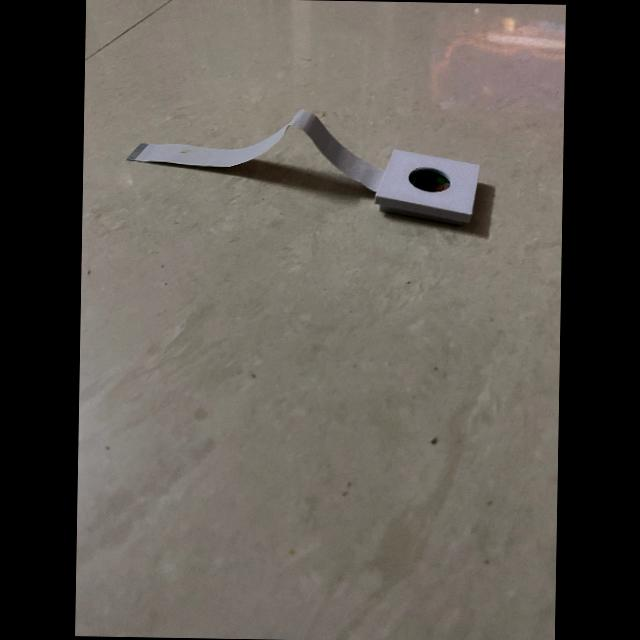RASPBERY PI CAM ENCLOSURE: (374, 148, 479, 226)
